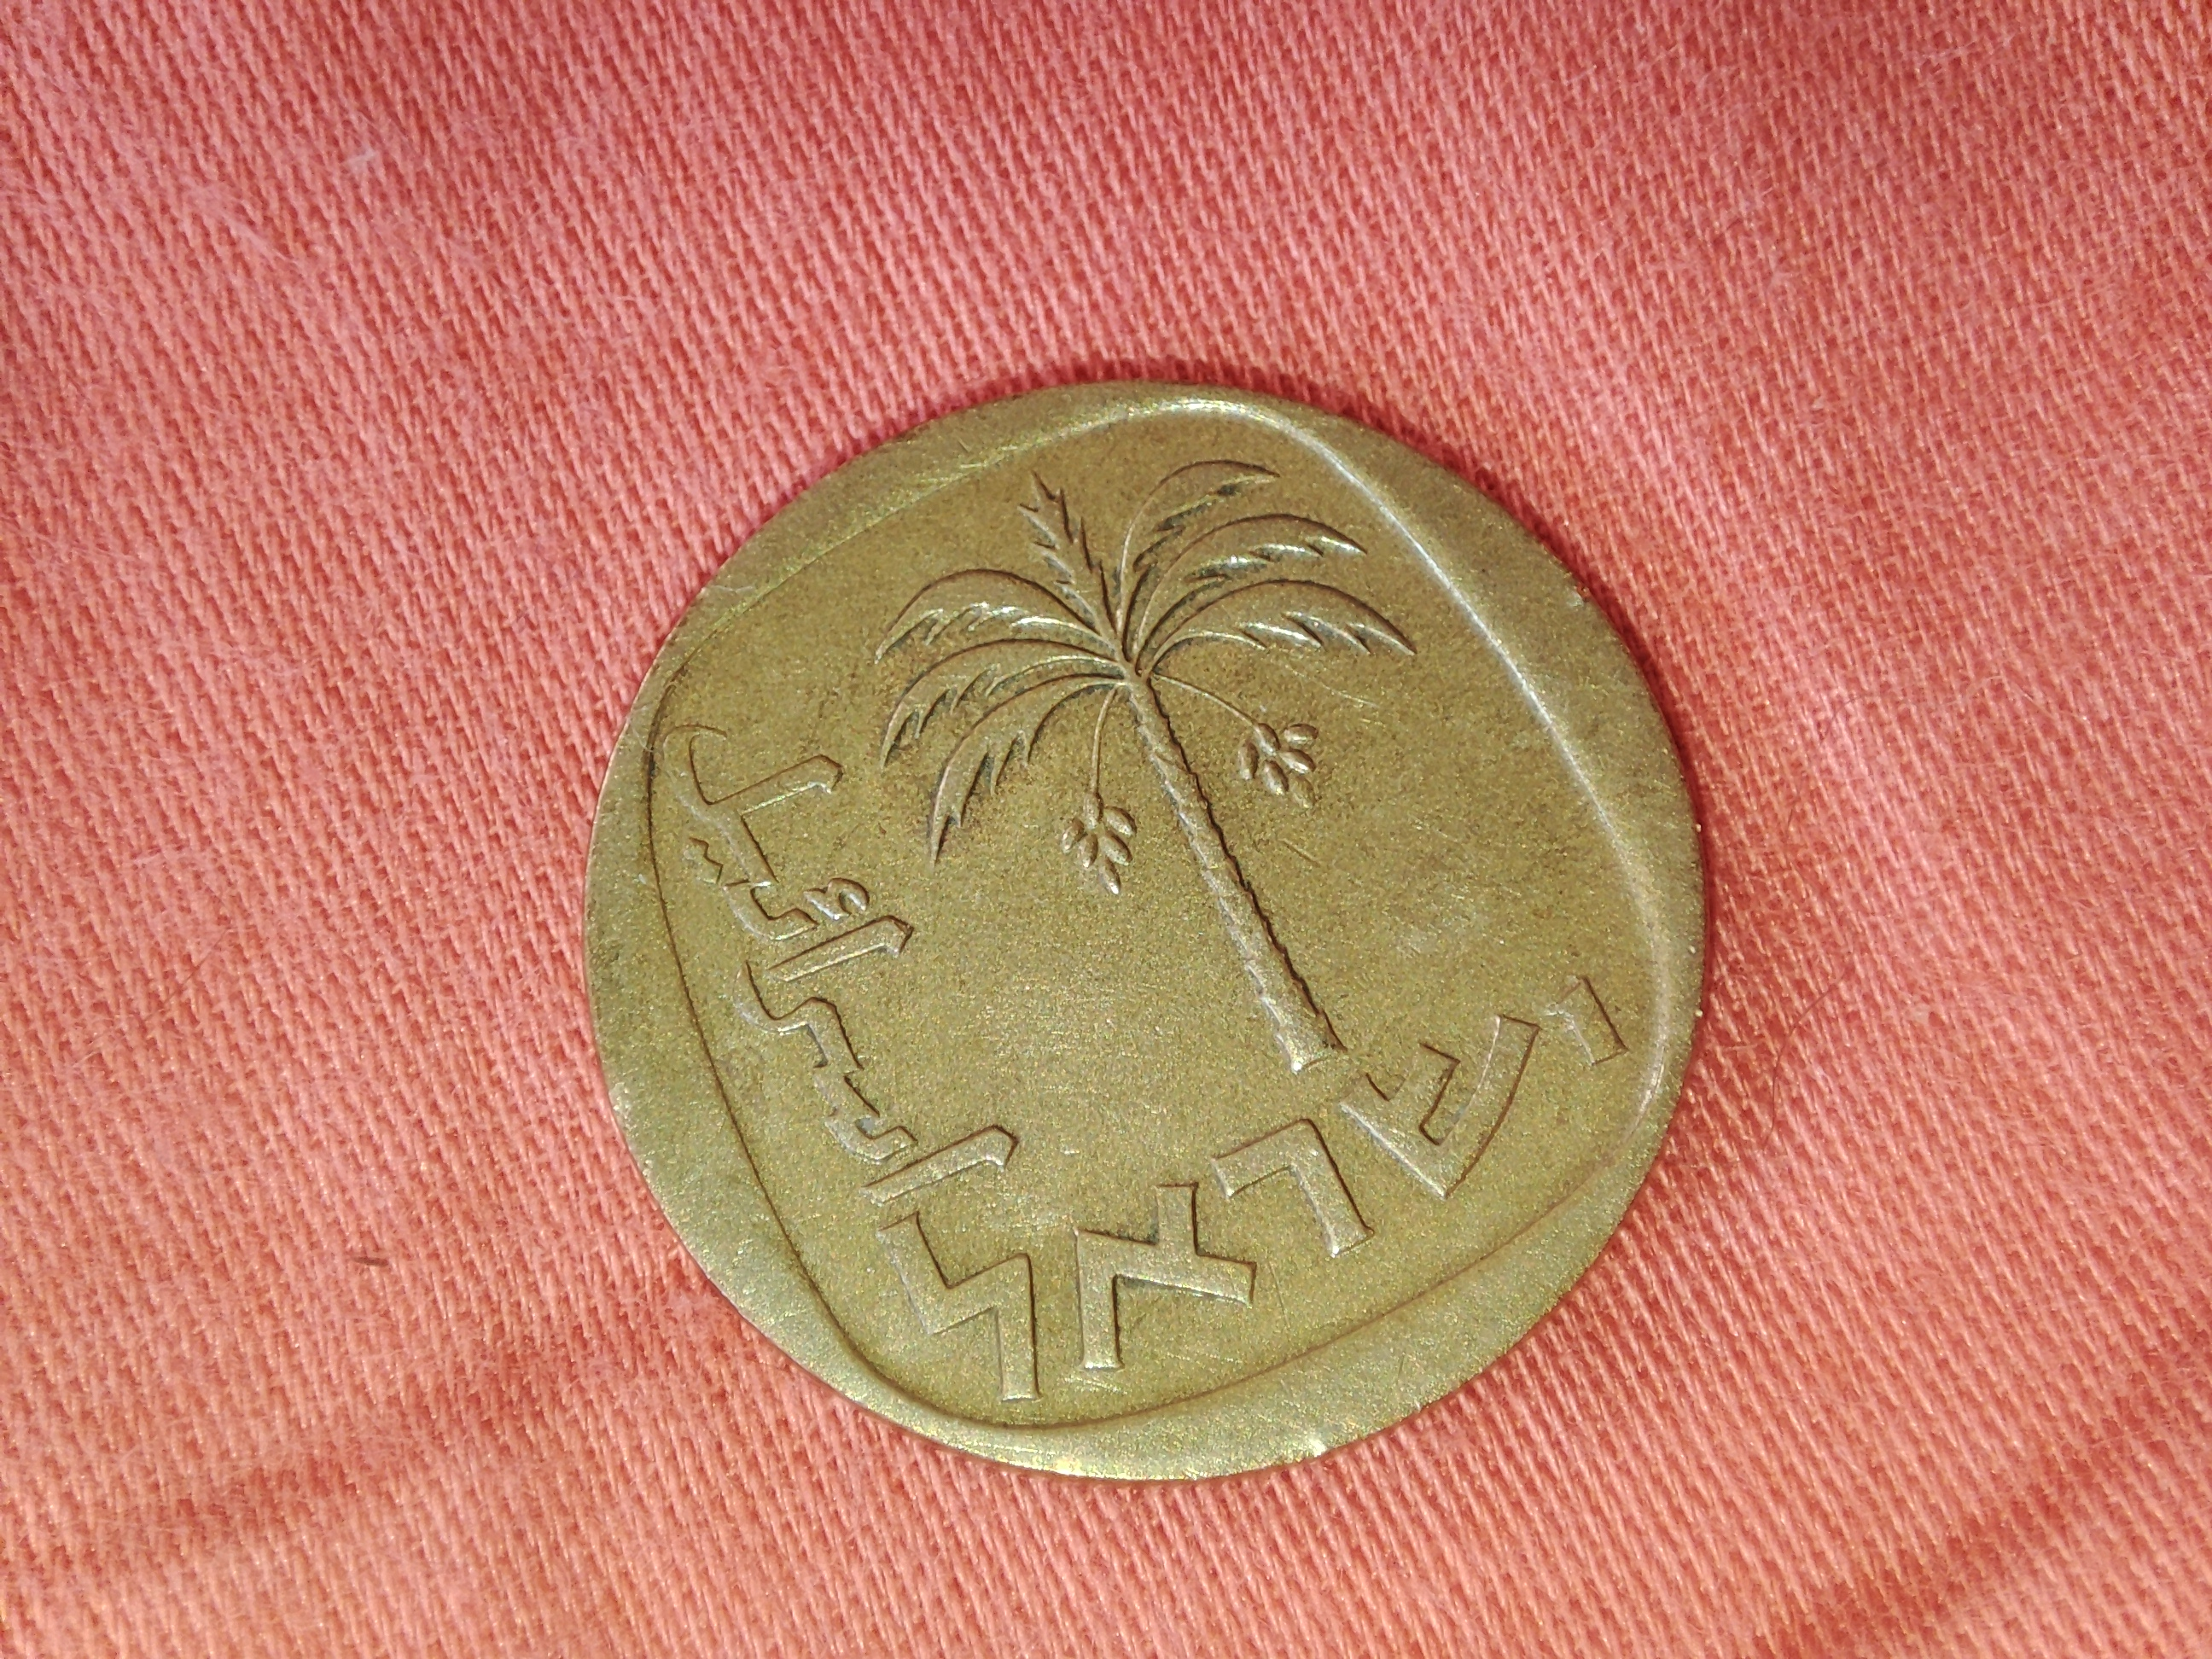10 old agora brown: (570, 369, 1723, 1493)
